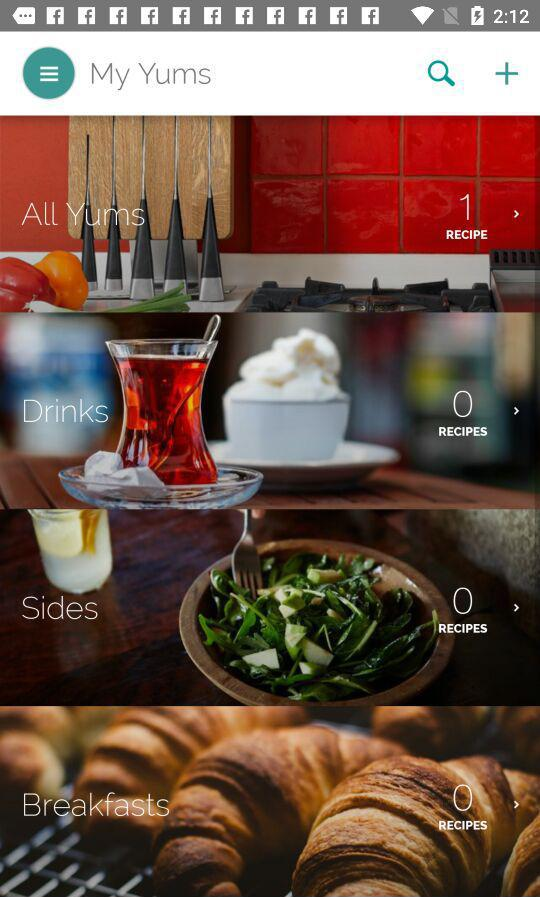Icon: (22, 48, 76, 100), (427, 60, 456, 88), (495, 62, 519, 87), (500, 397, 522, 423), (501, 202, 522, 228), (501, 594, 522, 620), (501, 792, 522, 818)
Image: (1, 312, 540, 510), (1, 510, 540, 706), (1, 116, 540, 312), (1, 706, 540, 897)
Text: (24, 791, 171, 817), (91, 63, 212, 92), (22, 201, 146, 227), (24, 399, 109, 424), (22, 595, 100, 620), (453, 390, 473, 420), (439, 426, 488, 438), (453, 783, 473, 812), (437, 820, 488, 831), (453, 587, 473, 615), (438, 623, 488, 634), (445, 229, 488, 241), (459, 193, 470, 221)
Toolbar: (1, 33, 540, 115)
UpperTaskBar: (1, 1, 540, 33)
